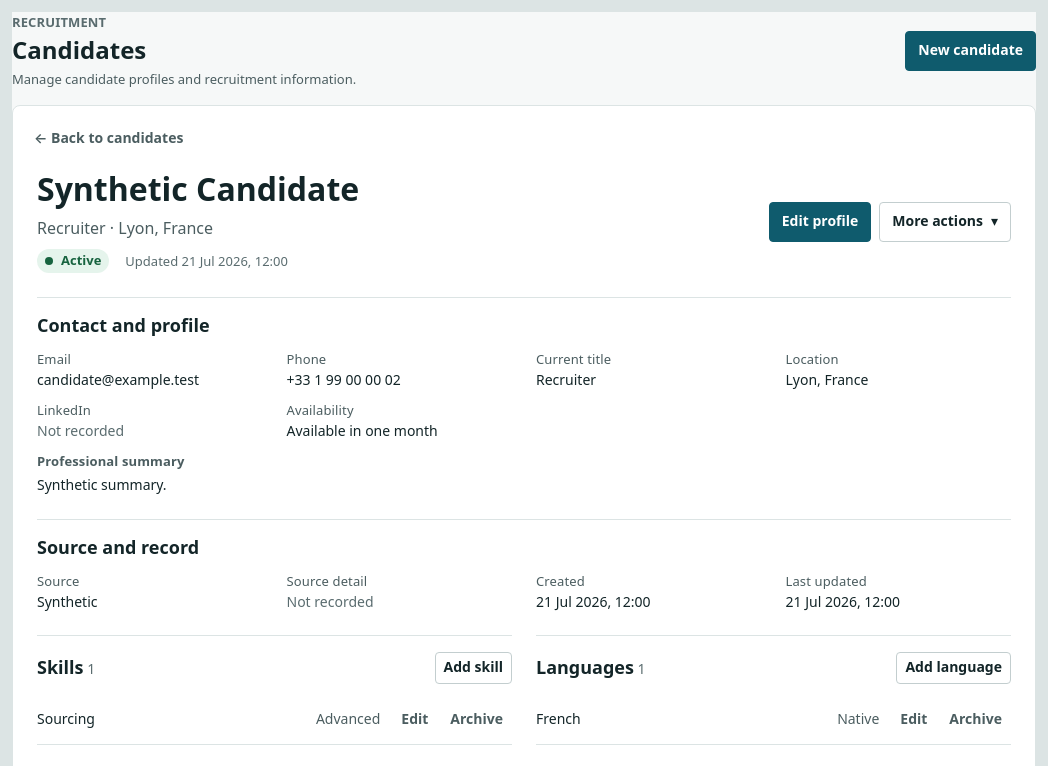
Test case: Candidate forms › shows a safe form-level failure for other conflicts
Click the button "Edit profile": x=820, y=222 [769, 202, 871, 242]
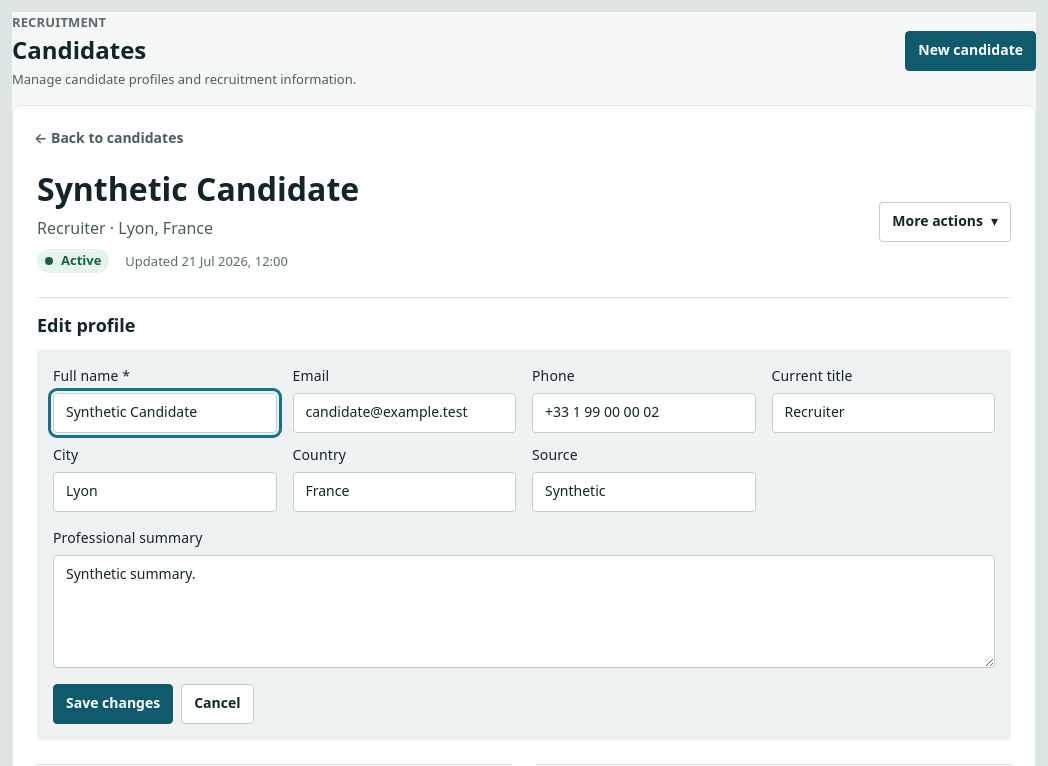
Click the button "Save changes": x=113, y=704 [53, 684, 173, 724]
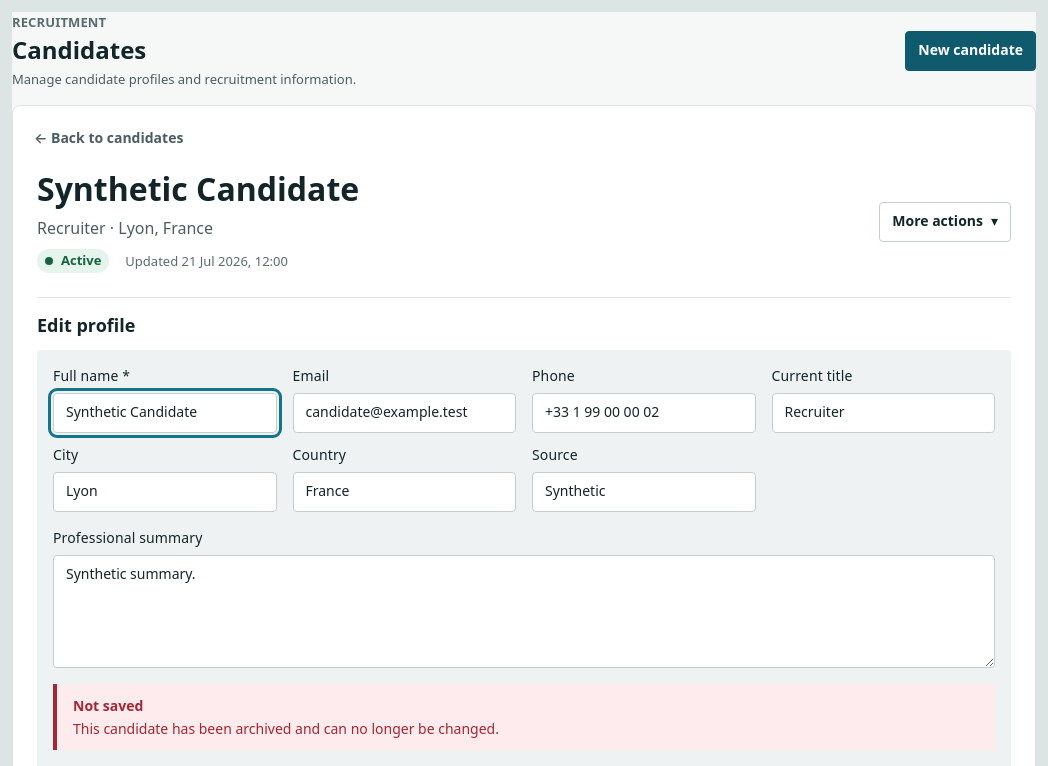
Expected: the message shows "This candidate has been archived and can no longer be changed.", [73, 719, 499, 738]
